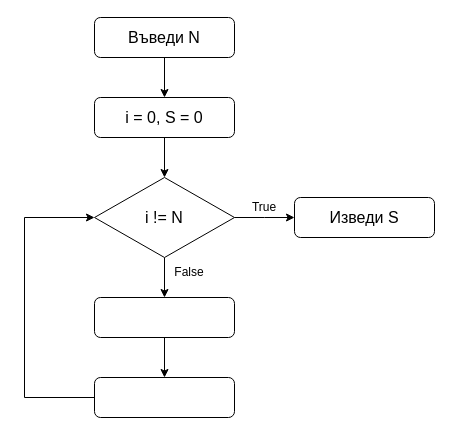
This 452x435 diagram has some shape labels left out. The shapes that lost their labels are listed below. From the top down, each one's centre as x and y in pixels, then its label:
At (x=164, y=317): "Въведи Number".
At (x=164, y=397): "S += Number, i++".
